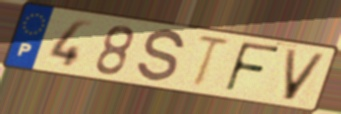4: (46, 18, 90, 71)
8: (94, 24, 135, 77)
F: (222, 40, 284, 96)
S: (134, 28, 187, 85)
T: (188, 32, 234, 92)
V: (282, 47, 330, 103)
